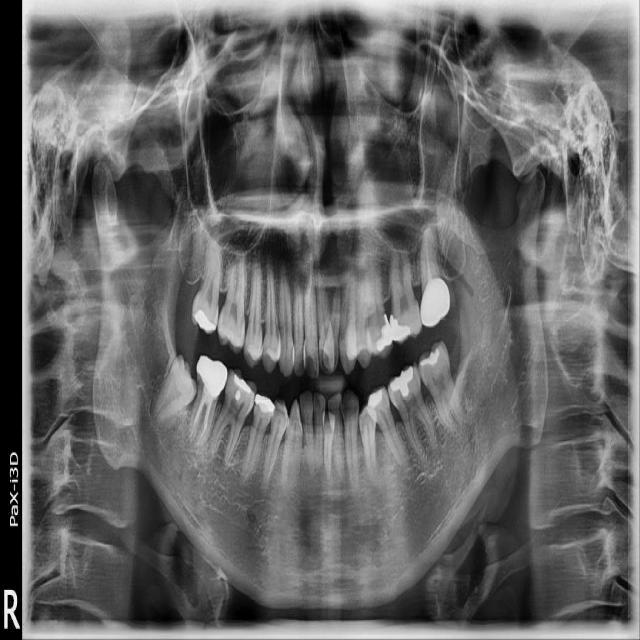Crown: (420, 277, 450, 325), (197, 357, 228, 399)
Filling: (367, 314, 392, 353), (387, 366, 416, 399), (233, 371, 254, 400), (388, 313, 411, 339), (367, 388, 384, 421), (418, 347, 442, 370), (192, 311, 217, 332), (255, 394, 276, 415)
Root Canal Treatment: (197, 406, 209, 445), (190, 405, 199, 439), (426, 229, 430, 275)
impacted tooth: (152, 351, 197, 425)
